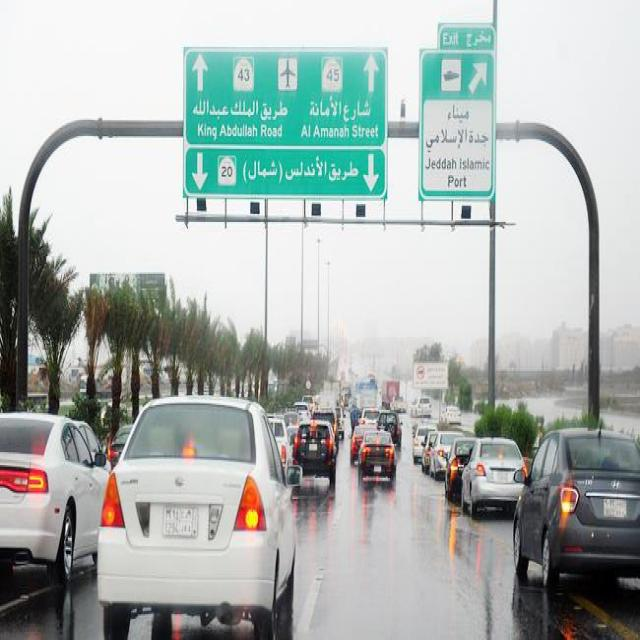license_plate: (162, 501, 198, 538)
